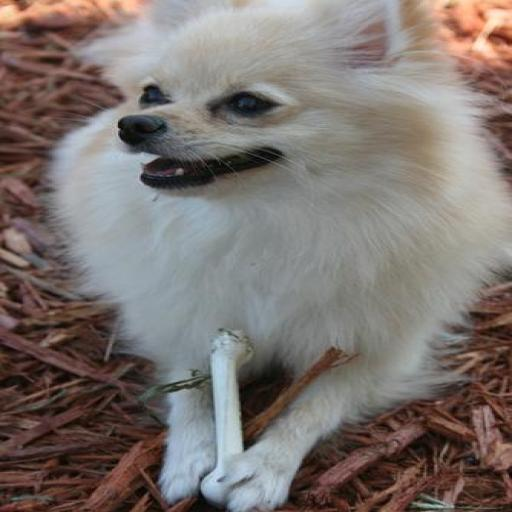dog_face: (125, 12, 410, 199)
